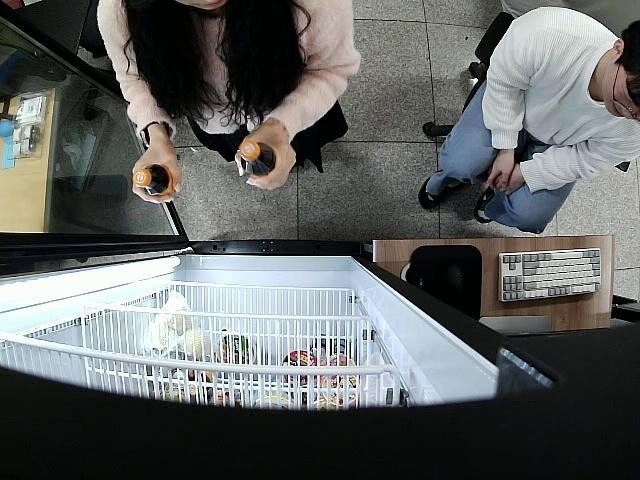17_vita500: (133, 164, 176, 199), (238, 140, 276, 176)
